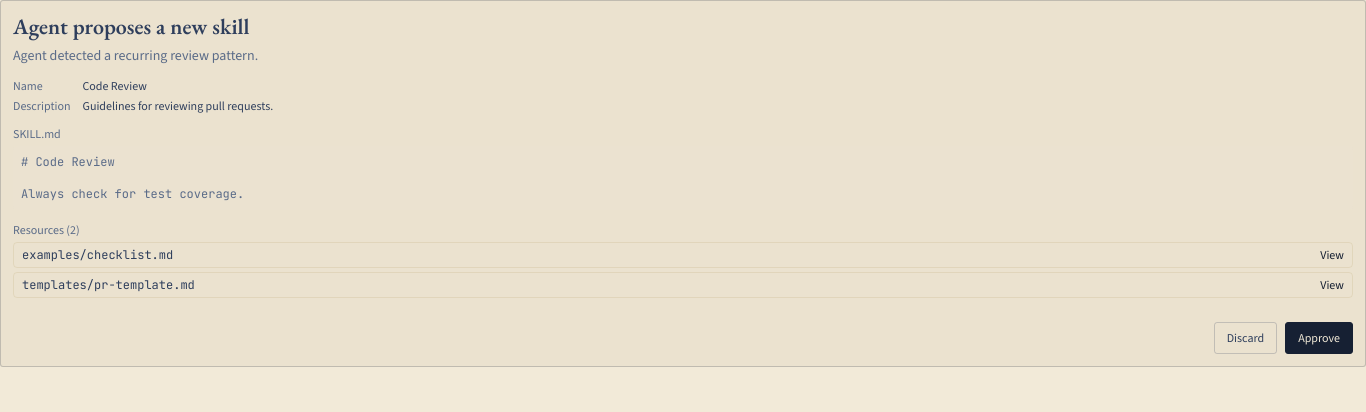
Test case: SkillProposalCard › includes resources in the POST body when the proposal has them
Click the button with test id "skill-proposal-approve" at (1319, 338), box x1=1285 y1=322 x2=1353 y2=354
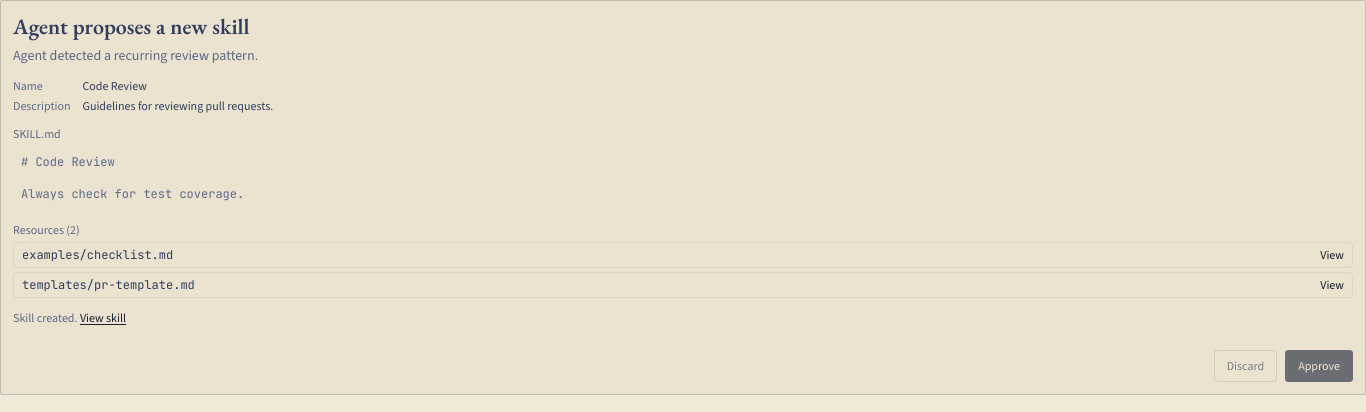
Expected: the element with test id "skill-proposal-success" is shown, x1=13 y1=310 x2=126 y2=326
